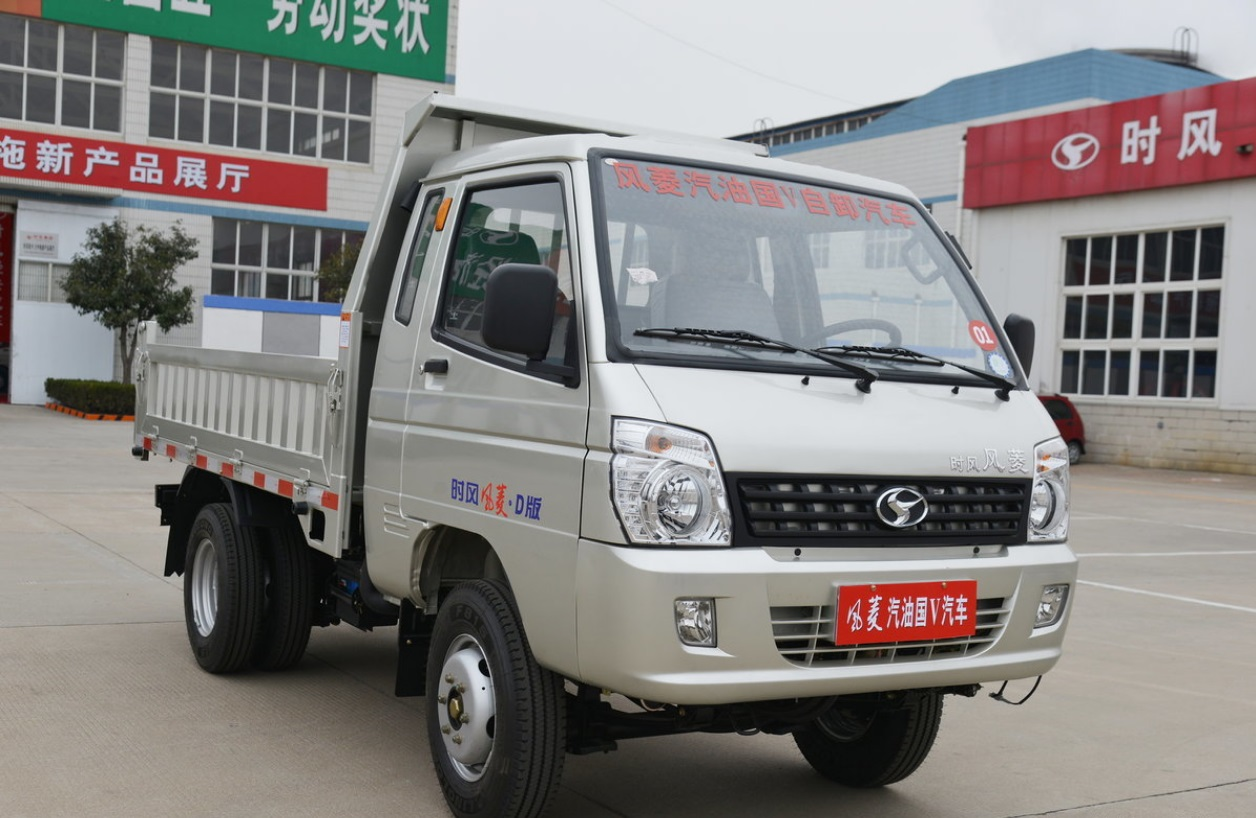truck: (127, 93, 1089, 818)
